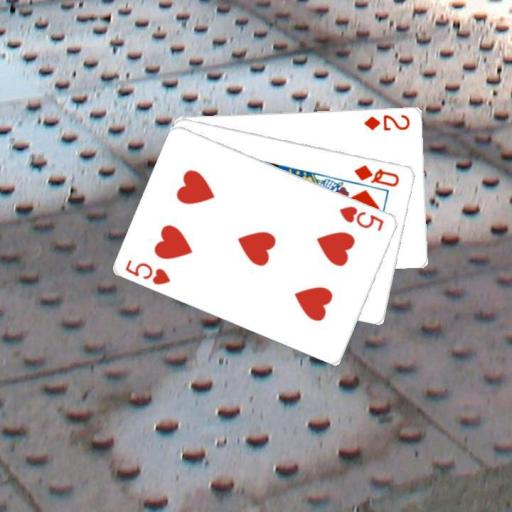2D: (361, 111, 412, 131)
5H: (122, 256, 173, 287), (336, 202, 386, 233)
QD: (351, 161, 401, 188)
